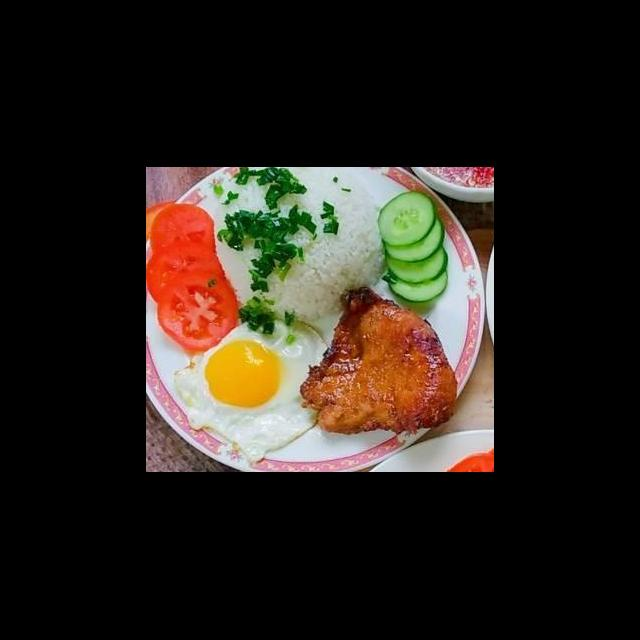com: (211, 168, 389, 326)
suon: (296, 284, 461, 436)
trung: (171, 314, 337, 468)
